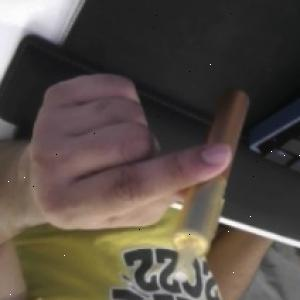Golden-E-Ciggirate: (169, 85, 253, 282)
